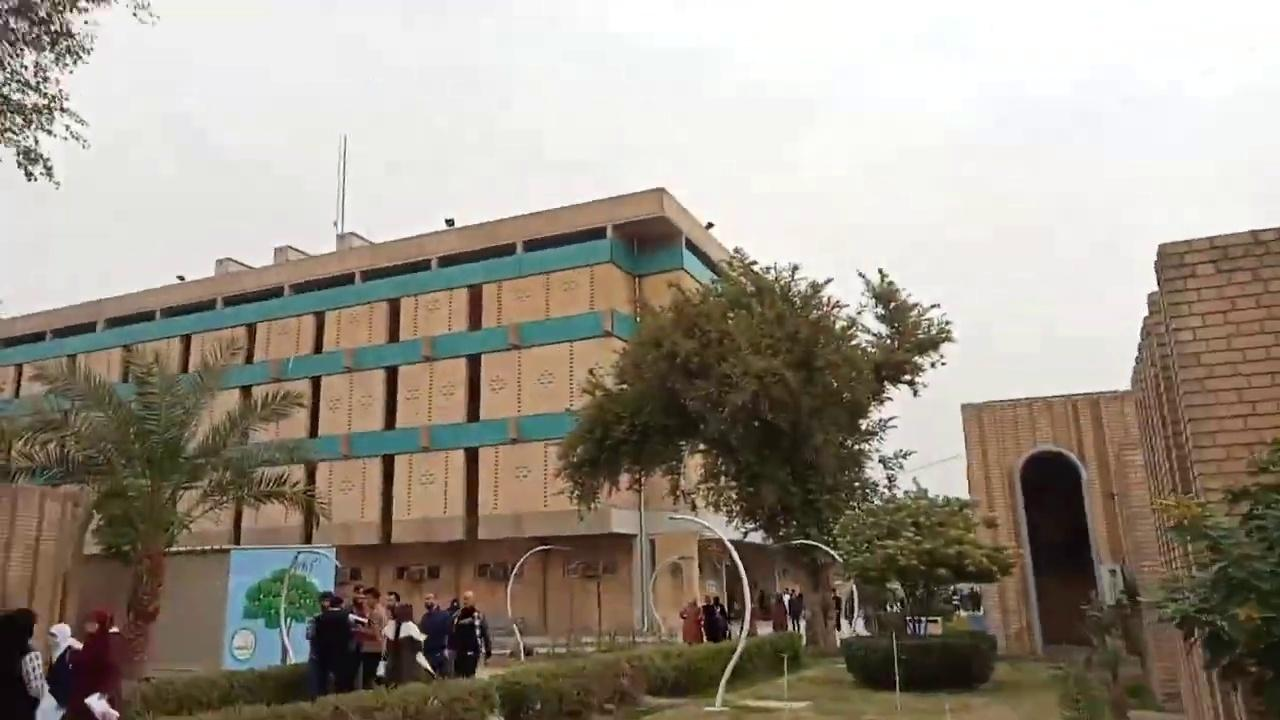person: (0, 606, 48, 719), (45, 622, 83, 718)
tree: (550, 243, 956, 705), (4, 336, 327, 683), (550, 358, 692, 639), (1139, 434, 1279, 718), (830, 476, 1017, 638), (0, 0, 159, 189), (190, 384, 324, 546), (1047, 588, 1164, 718), (241, 551, 325, 666)
